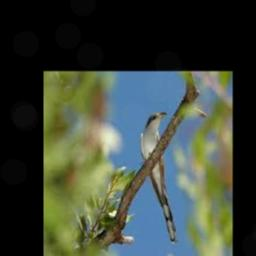Cuckoo: (140, 112, 176, 242)
